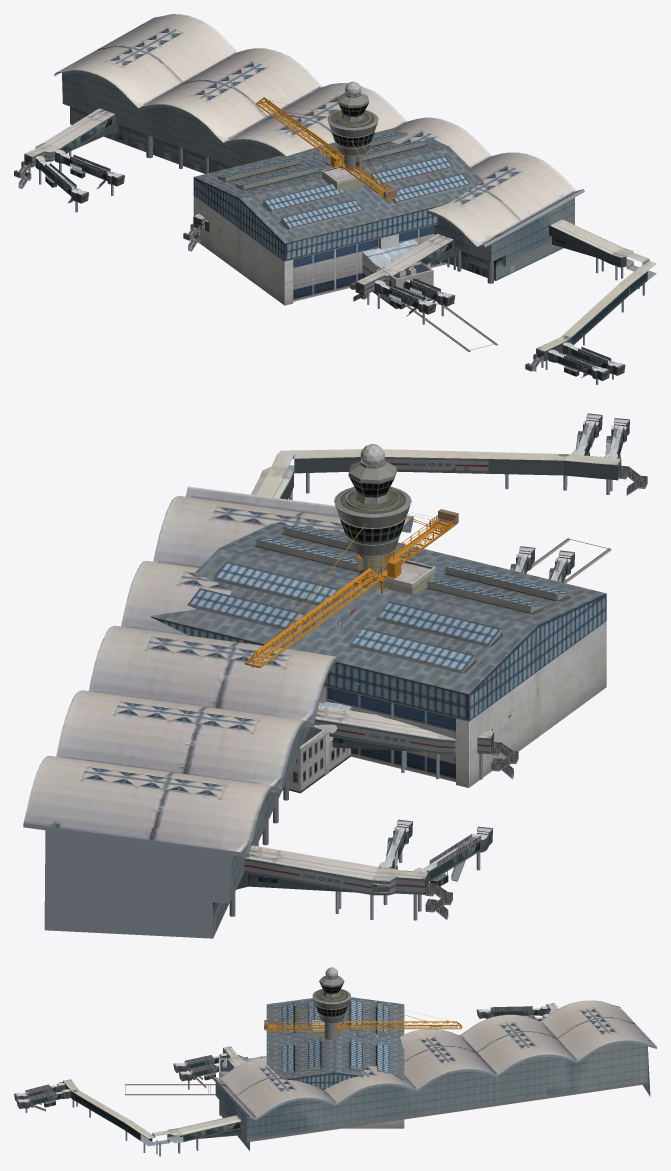
File: airport.glb
3 views of the same model, one above another, from view 1: azimuth 30°, elevation 25°; view 2: azimuth 150°, elevation 25°; view 3: azimuth 270°, elevation 25° (orthographic). The views are drawn at different scales.
Visible parts, largest first — view 1: terminal, hangar, tower, crane, freight, shed, admin; view 2: terminal, hangar, tower, crane, freight, admin; view 3: terminal, hangar, crane, tower.
Part boxes in pixels (left/top/right/bottom): terminal: left=14, top=14, right=656, bottom=384; hangar: left=193, top=125, right=483, bottom=305; tower: left=327, top=81, right=378, bottom=171; crane: left=255, top=97, right=498, bottom=351; freight: left=313, top=153, right=433, bottom=308; shed: left=362, top=239, right=430, bottom=295; admin: left=321, top=147, right=363, bottom=190; terminal: left=23, top=413, right=647, bottom=938; hangar: left=151, top=523, right=606, bottom=787; tower: left=334, top=444, right=411, bottom=588; crane: left=244, top=509, right=611, bottom=790; freight: left=289, top=618, right=350, bottom=793; admin: left=380, top=548, right=435, bottom=594; terminal: left=14, top=1000, right=656, bottom=1156; hangar: left=266, top=997, right=404, bottom=1128; crane: left=125, top=998, right=462, bottom=1095; tower: left=312, top=967, right=350, bottom=1039.
Size of the model in its own units: 108 by 47.51 by 210.
80 materials, 44 textured.
